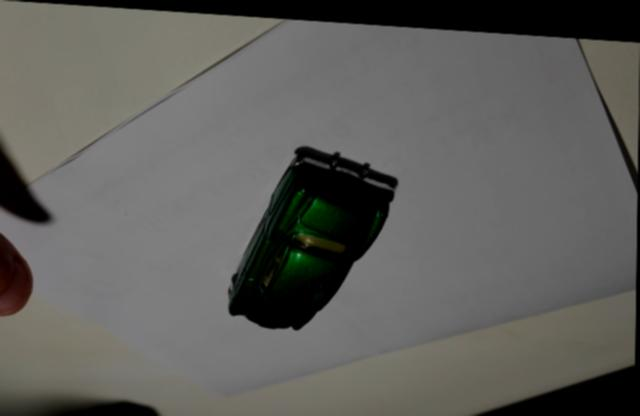06_MASERATI: (228, 147, 399, 325)
